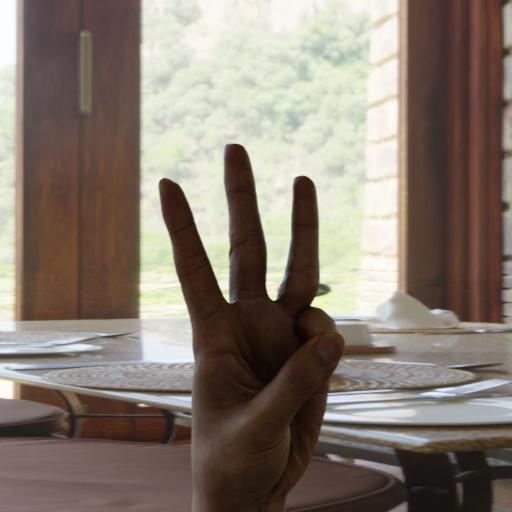W: (141, 131, 357, 512)
